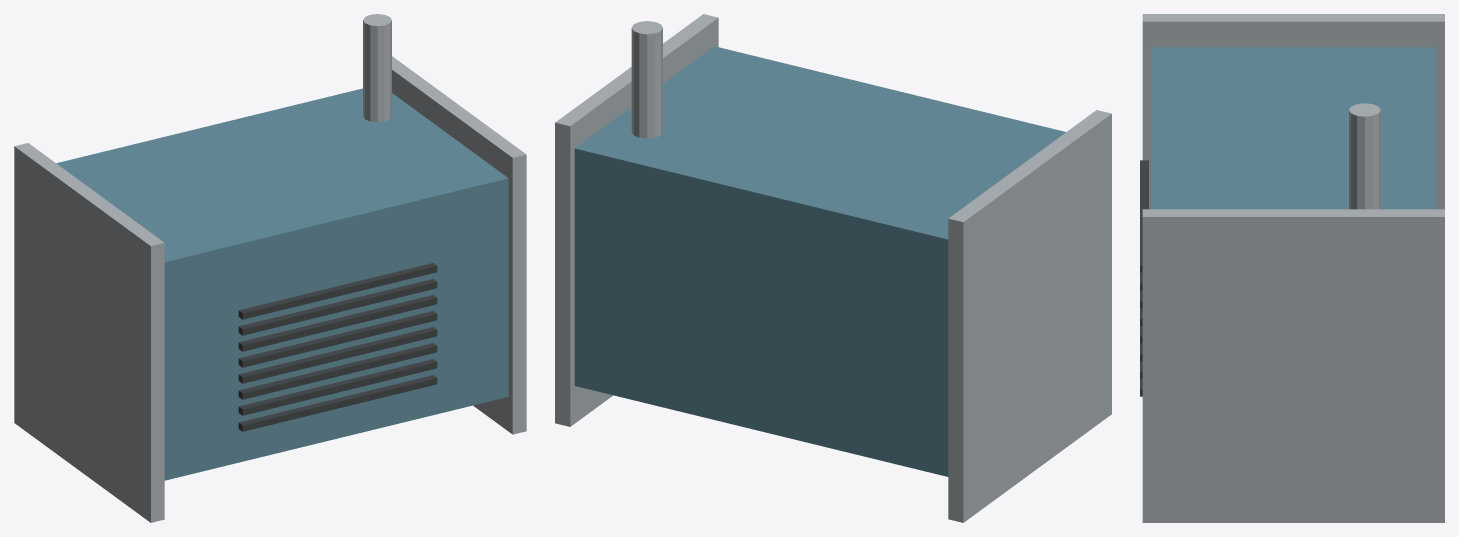
The model's file is Source.glb.
3 views of the same model, side by side, from view 1: azimuth 30°, elevation 25°; view 2: azimuth 150°, elevation 25°; view 3: azimuth 270°, elevation 25° (orthographic). The views are drawn at different scales.
Parts seen in each view (by area): view 1: generator; view 2: generator; view 3: generator.
Boxes of the visible parts, x1=… form: generator: x1=14, y1=14, x2=526, y2=522; generator: x1=555, y1=14, x2=1111, y2=522; generator: x1=1140, y1=14, x2=1444, y2=522.
Size of the model in its own units: 1.35 by 1.2 by 0.8575.
